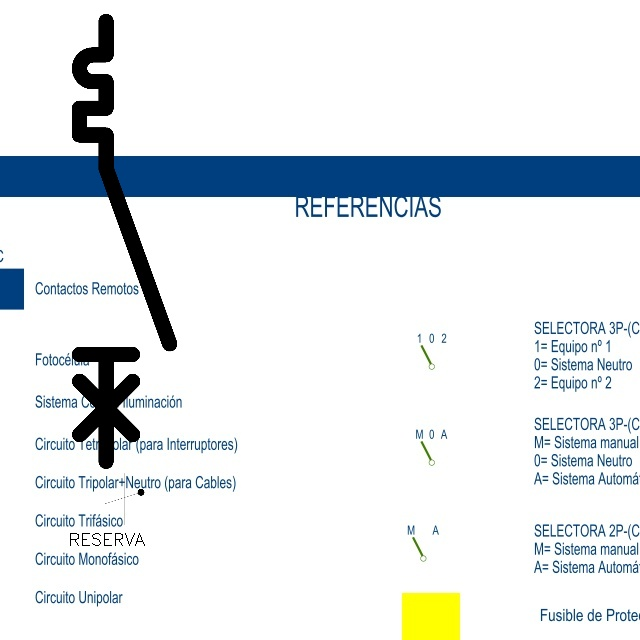interruptor_termomagnetico: (68, 10, 181, 473)
